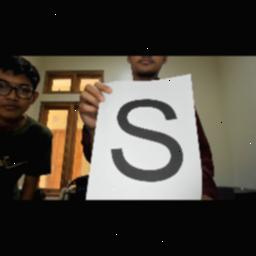s: (109, 96, 183, 186)
